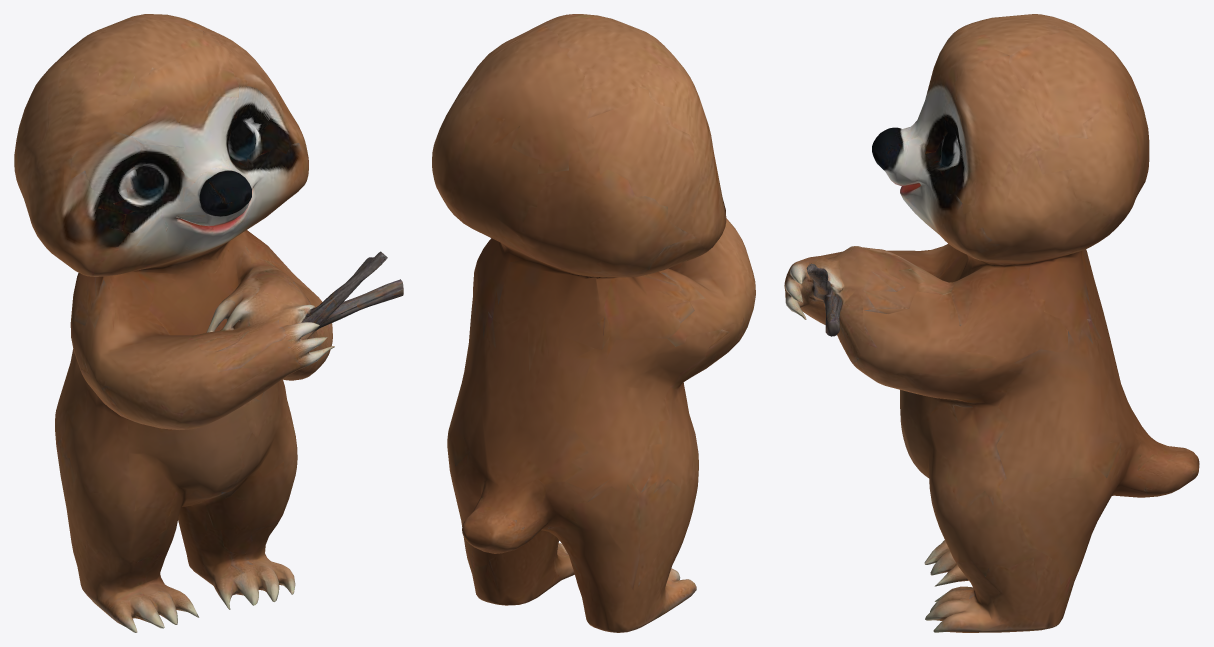
File: sloth.glb
The picture shows the model from 3 angles, left to right: view 1: azimuth 30°, elevation 25°; view 2: azimuth 150°, elevation 25°; view 3: azimuth 270°, elevation 25°; orthographic projection. The views are drawn at different scales.
Size of the model in its own units: 0.9755 by 1.9 by 1.28.
Materials: 1 (1 with a texture image).
